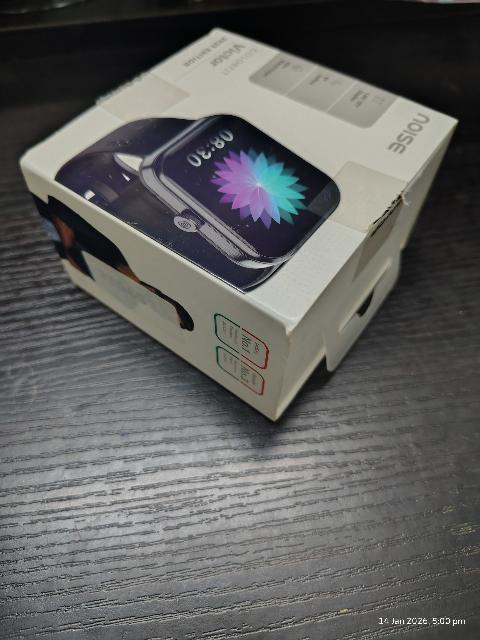noise victor smartwatch: (72, 72, 438, 365)
